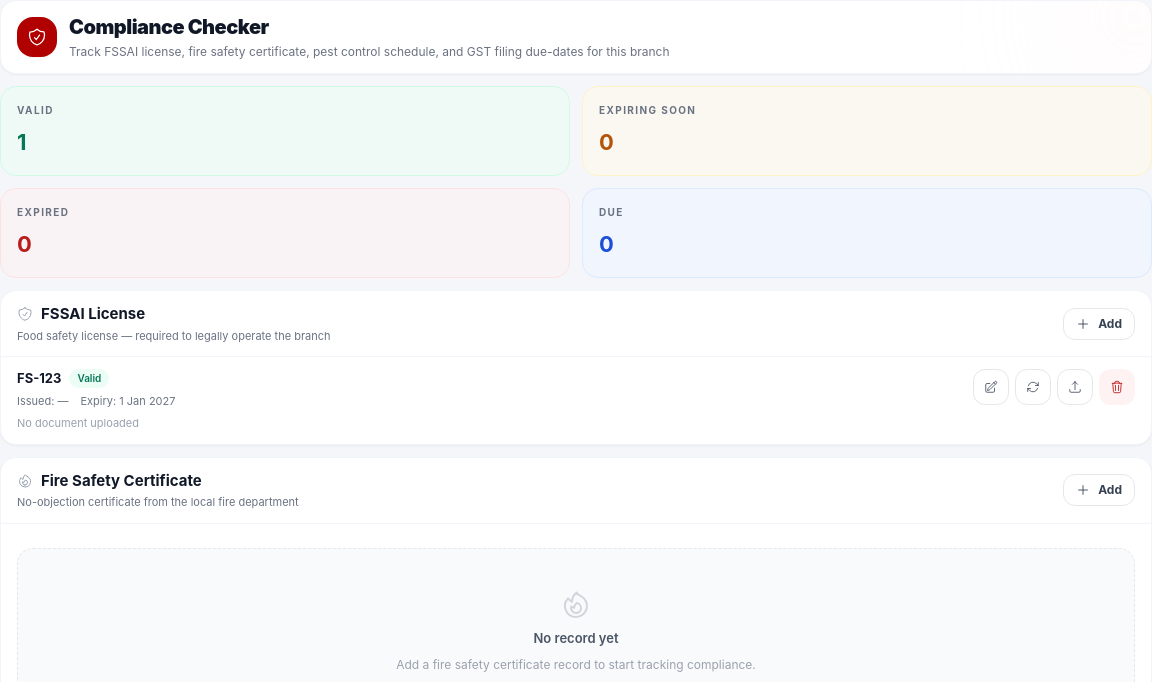
ComplianceChecker › reports a failed renewal rather than leaving the date unchanged in silence
Click the button named "renew": (1033,387) [1015,369,1051,405]
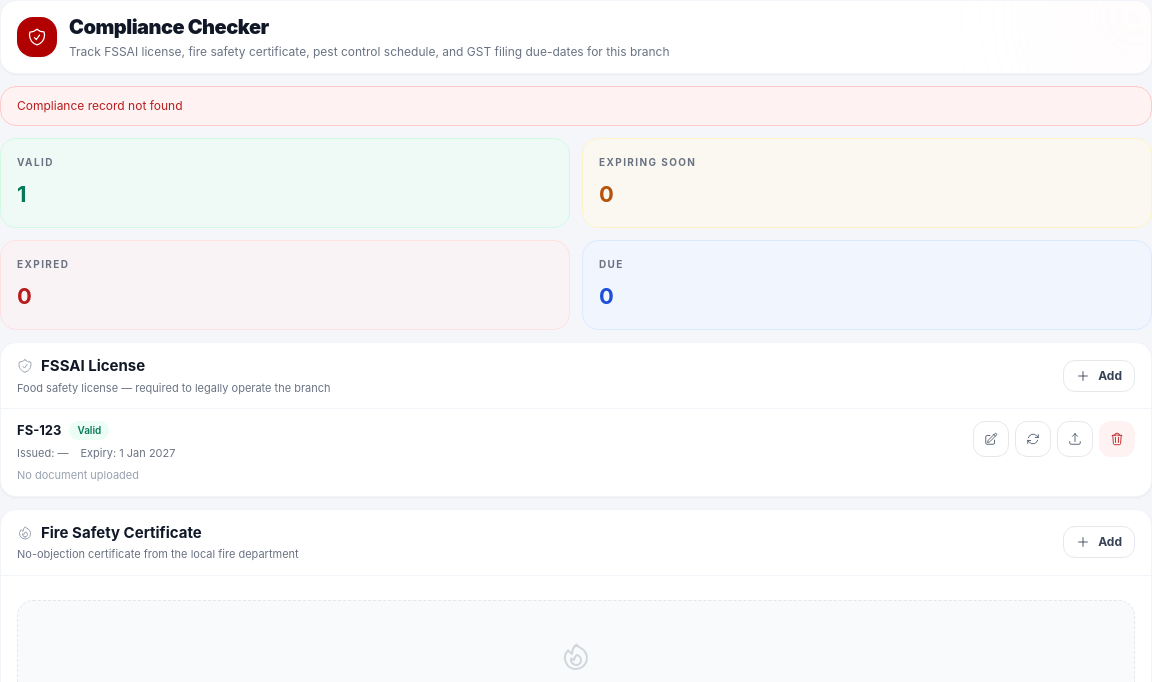
Expected: the text "Compliance record not found" is shown, [0,86,1151,126]
